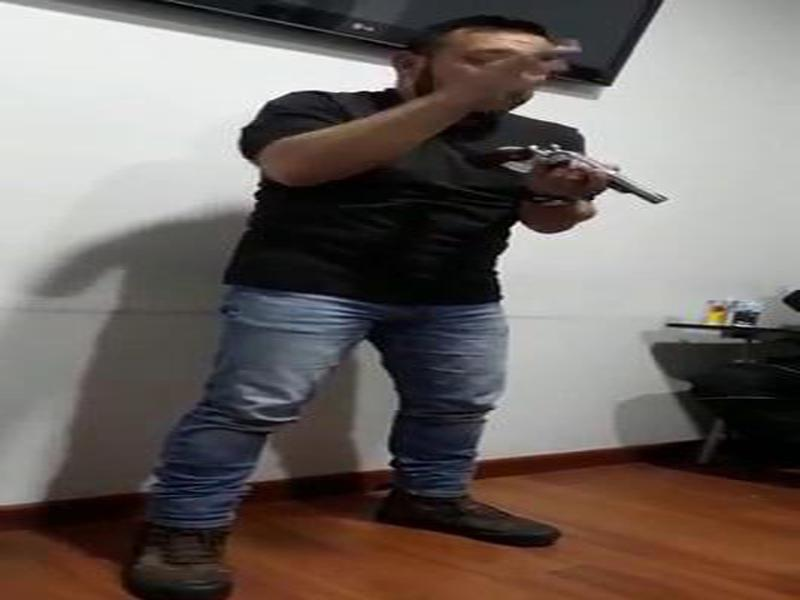Revolver: (447, 106, 674, 234)
